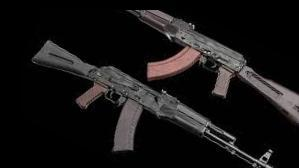larga: (31, 40, 274, 168), (127, 10, 299, 126)
